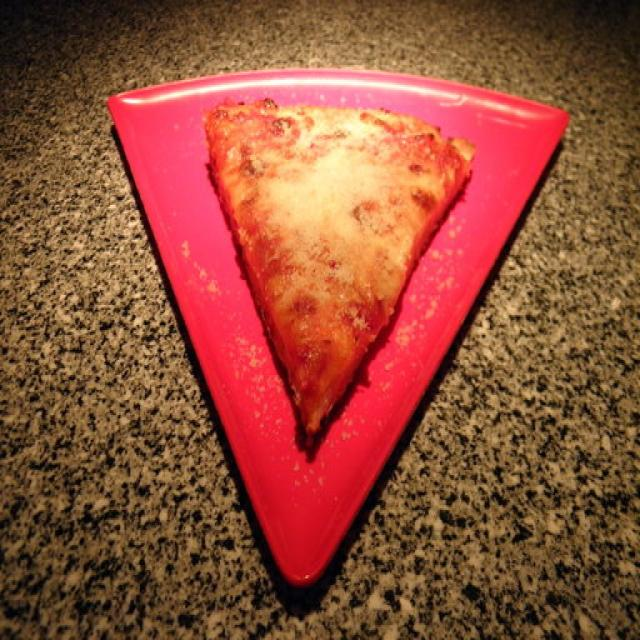Pizza: (202, 103, 476, 445)
